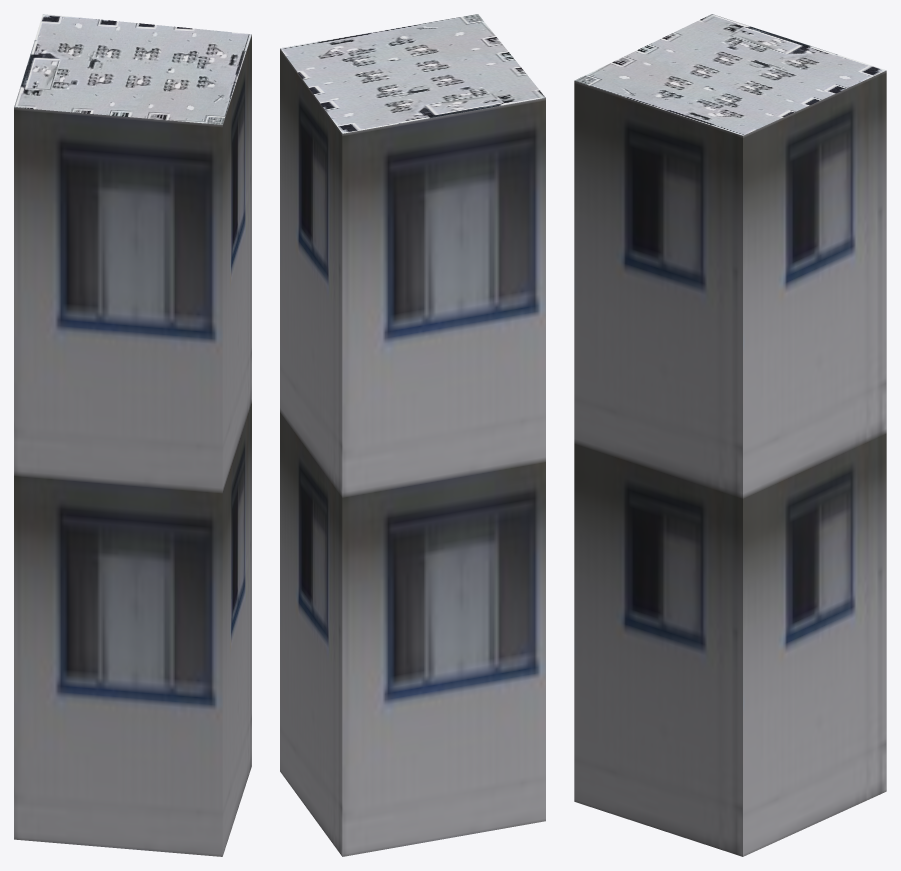
The model's file is ResTex__1306.fbx.
3 views of the same model, side by side, from view 1: azimuth 30°, elevation 25°; view 2: azimuth 150°, elevation 25°; view 3: azimuth 270°, elevation 25° (orthographic).
Parts seen in each view (by area): view 1: CityEngineMaterial_9_m, CityEngineMaterial_m; view 2: CityEngineMaterial_9_m, CityEngineMaterial_m; view 3: CityEngineMaterial_9_m, CityEngineMaterial_m.
Part boxes in pixels (x1,y1,x2,y2): CityEngineMaterial_9_m: [14, 35, 251, 856]; CityEngineMaterial_m: [14, 14, 251, 124]; CityEngineMaterial_9_m: [280, 48, 545, 856]; CityEngineMaterial_m: [280, 14, 545, 133]; CityEngineMaterial_9_m: [574, 70, 886, 856]; CityEngineMaterial_m: [575, 14, 886, 135].
Size of the model in its own units: 2.17 by 6 by 2.36.
Materials: 2 (2 with a texture image).
